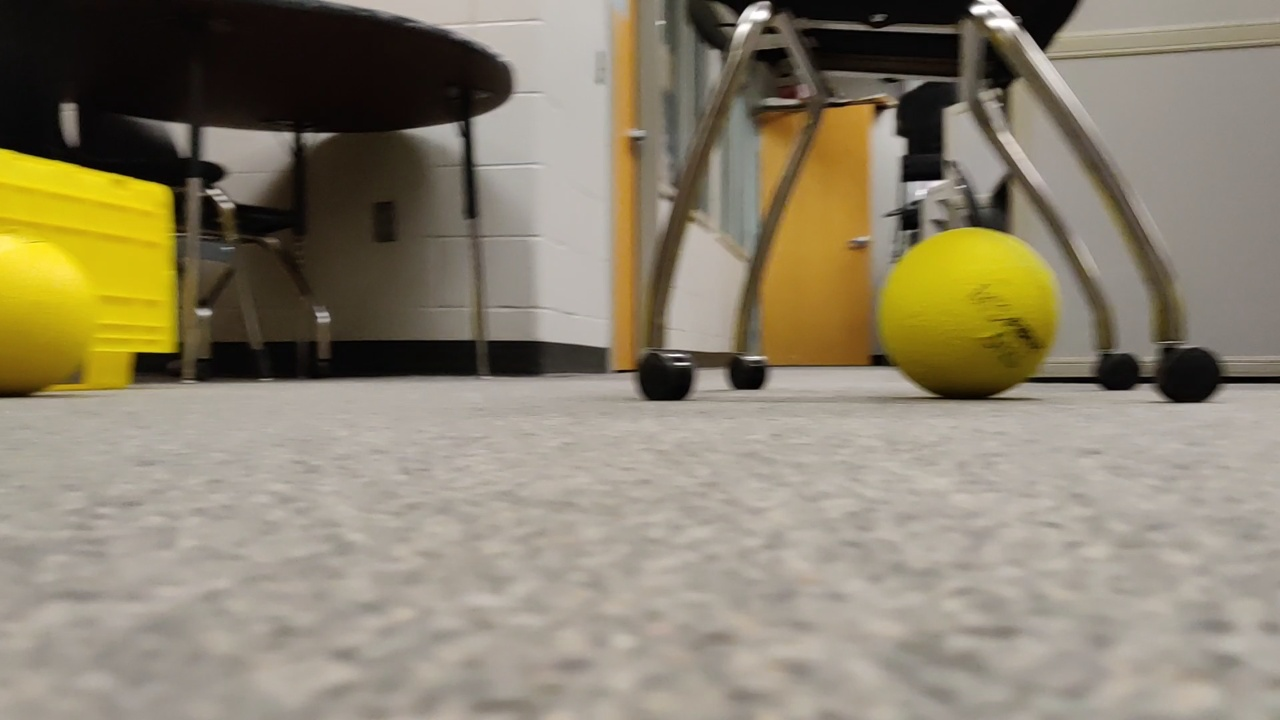Ball: (872, 213, 1054, 413), (1, 238, 83, 384)
